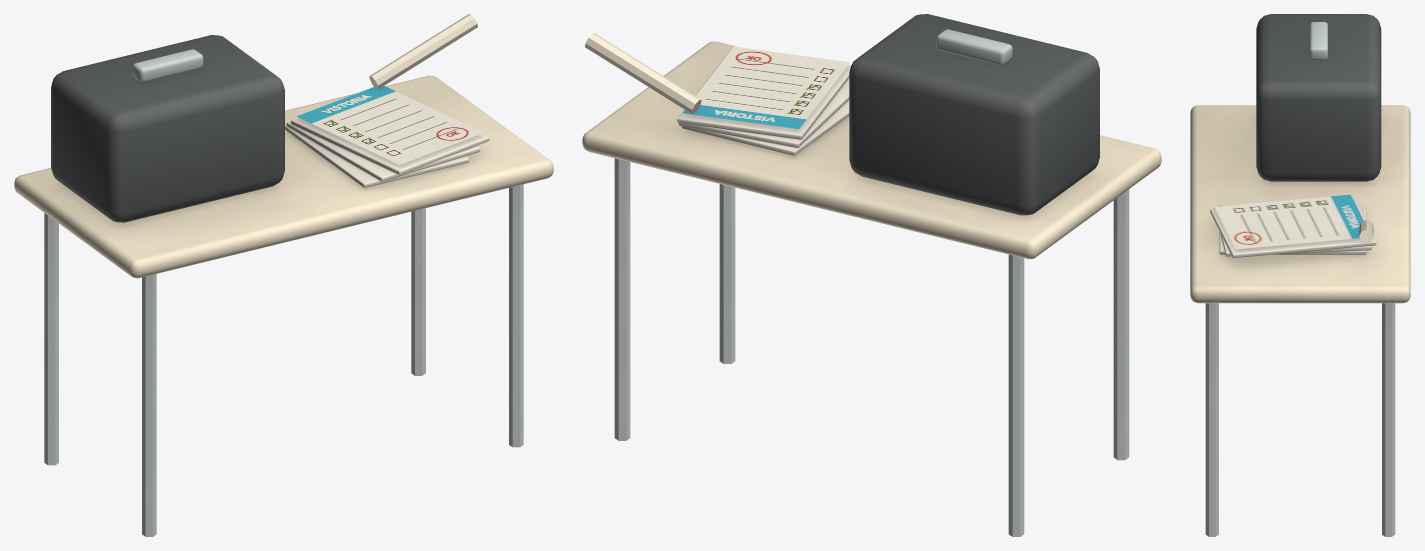
Rendered from InspectionKit.fbx.
3 views of the same model, side by side, from view 1: azimuth 30°, elevation 25°; view 2: azimuth 150°, elevation 25°; view 3: azimuth 270°, elevation 25° (orthographic). The views are drawn at different scales.
Visible parts, largest first — view 1: InspectionKit; view 2: InspectionKit; view 3: InspectionKit.
Part boxes in pixels (x1,y1,x2,y2): InspectionKit: [14, 14, 553, 536]; InspectionKit: [582, 14, 1161, 536]; InspectionKit: [1190, 14, 1410, 536].
Size of the model in its own units: 125 by 112 by 60.
